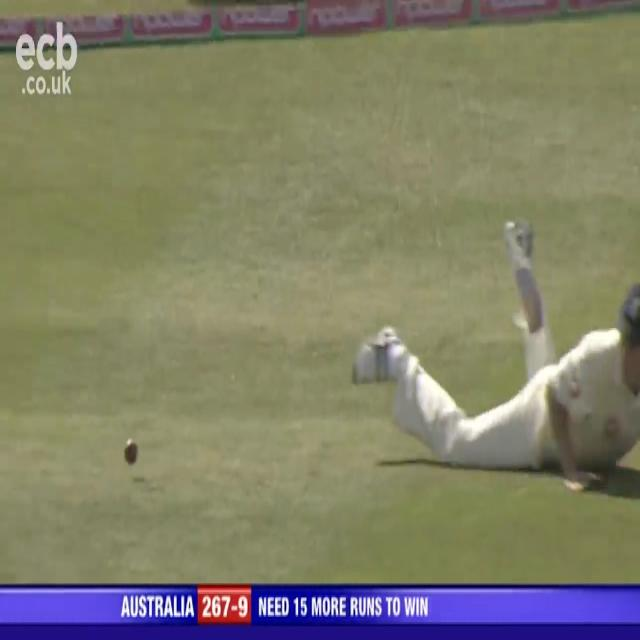ball: (119, 435, 143, 466)
